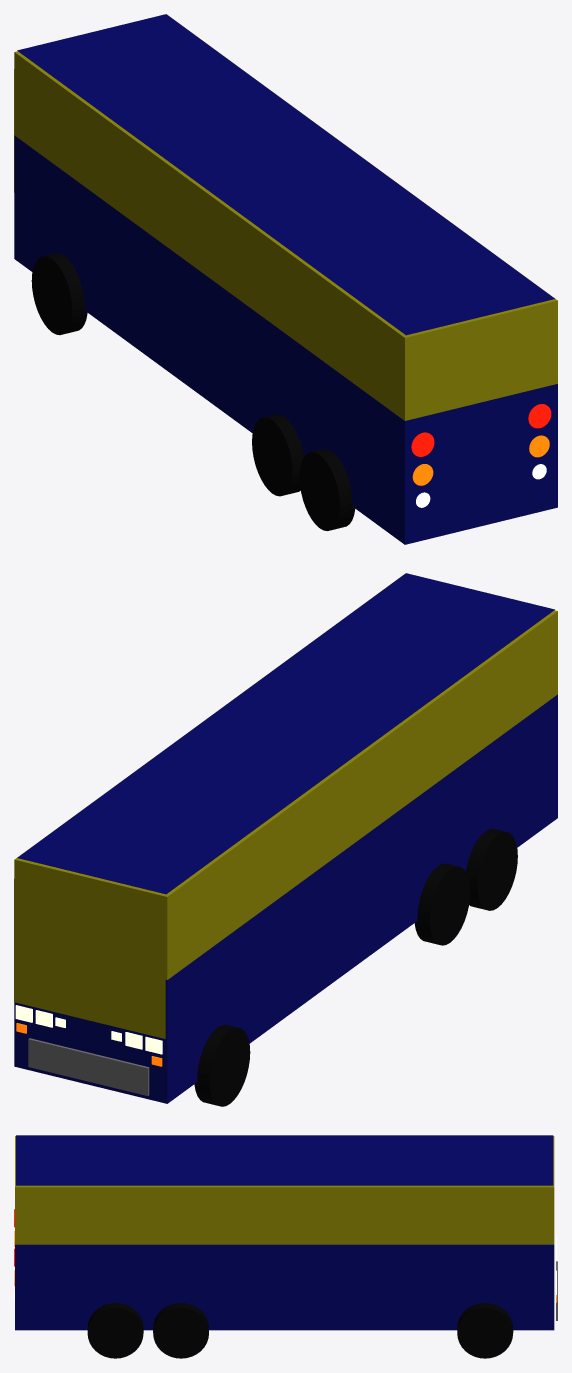
The model's file is new bus 4.fbx.
The picture shows the model from 3 angles, top to bottom: view 1: azimuth 30°, elevation 25°; view 2: azimuth 150°, elevation 25°; view 3: azimuth 270°, elevation 25°; orthographic projection. The views are drawn at different scales.
Parts seen in each view (by area): view 1: Cube.005, Plane.014, Cube.006, Circle.026, Circle.024, Circle.028; view 2: Plane.014, Cube.005, Cube.006, Plane.015, Plane.027, Circle.028, Circle.024, Circle.026; view 3: Cube.005, Cube.006, Plane.014, Circle.027, Circle.025, Circle.029.
Part boxes in pixels (<box>): Cube.005: <box>14,135,557,544</box>; Plane.014: <box>17,14,554,335</box>; Cube.006: <box>14,16,557,420</box>; Circle.026: <box>299,449,355,530</box>; Circle.024: <box>31,253,87,335</box>; Circle.028: <box>252,414,303,496</box>; Plane.014: <box>17,573,554,894</box>; Cube.005: <box>14,694,557,1103</box>; Cube.006: <box>14,574,557,979</box>; Plane.015: <box>14,878,165,1038</box>; Plane.027: <box>28,1038,149,1095</box>; Circle.028: <box>414,863,470,945</box>; Circle.024: <box>194,1024,250,1106</box>; Circle.026: <box>466,828,517,910</box>; Cube.005: <box>15,1244,554,1330</box>; Cube.006: <box>15,1136,554,1244</box>; Plane.014: <box>16,1135,553,1185</box>; Circle.027: <box>87,1303,143,1358</box>; Circle.025: <box>457,1303,513,1358</box>; Circle.029: <box>153,1303,208,1358</box>.
Size of the model in its own units: 314 by 403 by 1188.
